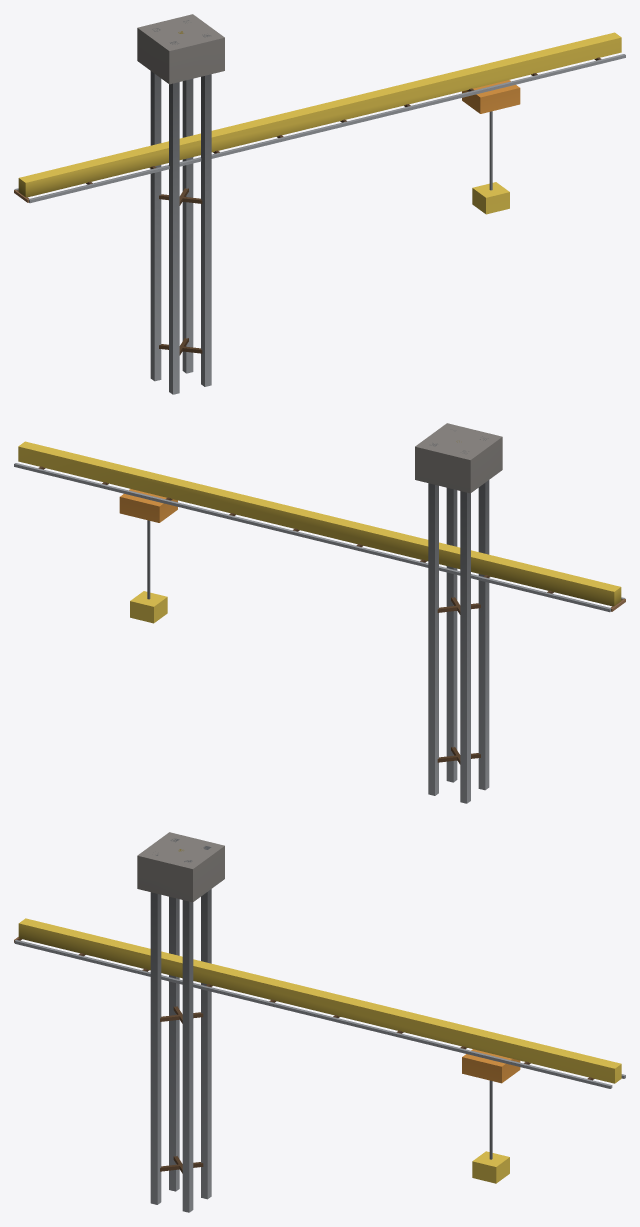
Rendered from 09_main_crane.glb.
3 views of the same model, one above another, from view 1: azimuth 30°, elevation 25°; view 2: azimuth 150°, elevation 25°; view 3: azimuth 330°, elevation 25° (orthographic).
Parts seen in each view (by area): view 1: main_crane_steel, main_crane_craneyellow, main_crane_concretedark, main_crane_hazard, main_crane_steelrust; view 2: main_crane_steel, main_crane_craneyellow, main_crane_concretedark, main_crane_hazard, main_crane_steelrust; view 3: main_crane_steel, main_crane_craneyellow, main_crane_concretedark, main_crane_hazard, main_crane_steelrust.
Boxes of the visible parts, left/top/right/bottom form: main_crane_steel: left=14, top=20, right=625, bottom=394; main_crane_craneyellow: left=18, top=31, right=621, bottom=214; main_crane_concretedark: left=137, top=14, right=224, bottom=84; main_crane_hazard: left=462, top=80, right=520, bottom=113; main_crane_steelrust: left=14, top=57, right=601, bottom=355; main_crane_steel: left=14, top=436, right=625, bottom=803; main_crane_craneyellow: left=18, top=441, right=621, bottom=623; main_crane_concretedark: left=415, top=423, right=502, bottom=493; main_crane_hazard: left=119, top=489, right=177, bottom=522; main_crane_steelrust: left=38, top=466, right=625, bottom=764; main_crane_steel: left=14, top=838, right=625, bottom=1212; main_crane_craneyellow: left=18, top=849, right=621, bottom=1183; main_crane_concretedark: left=137, top=832, right=224, bottom=902; main_crane_hazard: left=462, top=1049, right=520, bottom=1083; main_crane_steelrust: left=14, top=937, right=594, bottom=1173.
Bounding box in the file's own units: 75.17 × 42 × 7.
